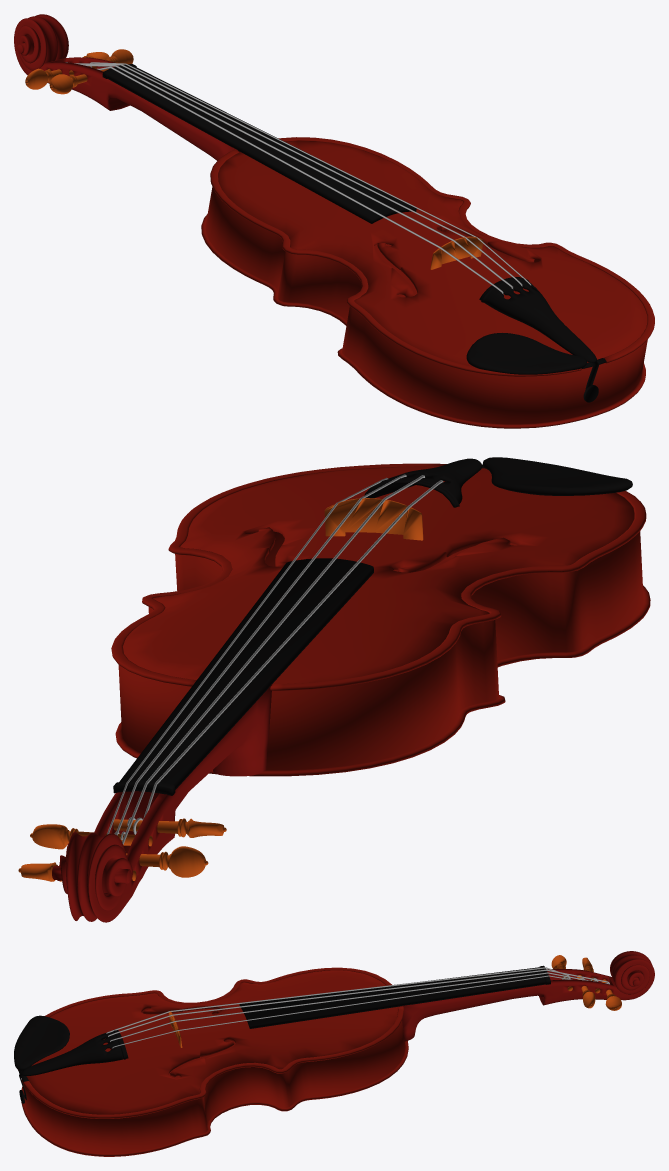
The model's file is violin.obj.
3 views of the same model, one above another, from view 1: azimuth 30°, elevation 25°; view 2: azimuth 150°, elevation 25°; view 3: azimuth 270°, elevation 25° (orthographic). The views are drawn at different scales.
Visible parts, largest first — view 1: VIOL, VIOLBLAC, VIOLNECK, violstri, VIOLTUNN; view 2: VIOL, VIOLBLAC, VIOLNECK, VIOLTUNN, violstri; view 3: VIOL, VIOLBLAC, VIOLNECK, violstri, VIOLTUNN.
Boxes of the visible parts, <box> form: VIOL: <box>201,137,654,428</box>; VIOLBLAC: <box>102,64,606,374</box>; VIOLNECK: <box>14,14,238,160</box>; violstri: <box>66,62,531,294</box>; VIOLTUNN: <box>25,49,483,269</box>; VIOL: <box>111,463,650,776</box>; VIOLBLAC: <box>113,457,632,795</box>; VIOLNECK: <box>52,684,272,922</box>; VIOLTUNN: <box>18,498,423,881</box>; violstri: <box>107,474,443,844</box>; VIOL: <box>18,967,408,1156</box>; VIOLBLAC: <box>14,965,550,1082</box>; VIOLNECK: <box>400,951,654,1041</box>; violstri: <box>106,967,609,1048</box>; VIOLTUNN: <box>168,955,621,1047</box>.
Bounding box in the file's own units: 50.34 × 23.27 × 121.
